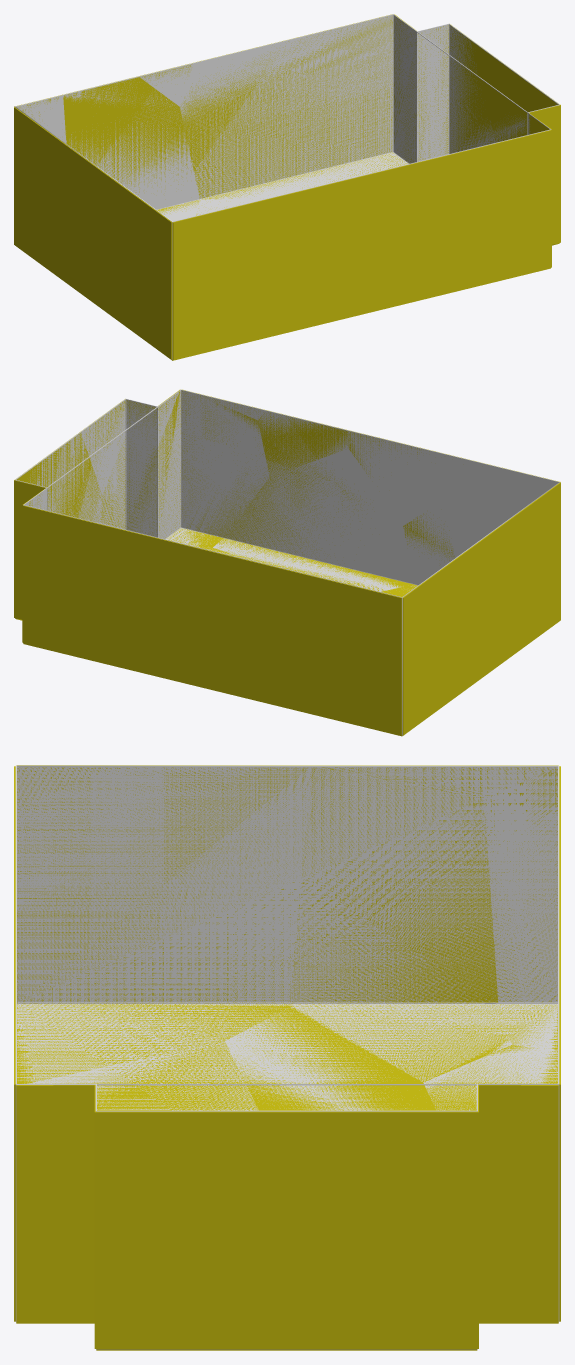
File: Room.fbx
The picture shows the model from 3 angles, top to bottom: view 1: azimuth 30°, elevation 25°; view 2: azimuth 150°, elevation 25°; view 3: azimuth 270°, elevation 25°; orthographic projection. The views are drawn at different scales.
Visible parts, largest first — view 1: Concer-Hall-Base-Mesh, Wall-2_v_002, Wall-4_v_006, Wall-4_v_002, Wall-3_v_003, Wall-4_v_003, Wall-2_v_001, Wall-3_v_001, Wall-1_v_005, Wall-4_v_004, Wall-4_v_007, Wall-4_v_001 (+6 smaller); view 2: Concer-Hall-Base-Mesh, Wall-2_v_002, Wall-2_v_001, Wall-3_v_003, Wall-3_v_001, Wall-2_v_003, Wall-1_v_005, Wall-4_v_007, Wall-4_v_002, Wall-3_v_002, Concert-hall-Lines, Wall-1_v_002 (+7 smaller); view 3: Concer-Hall-Base-Mesh, Wall-1_v_005, Wall-1_v_002, Wall-3_v_001, Wall-3_v_003, Wall-1_v_001, Wall-1_v_003, Floor_v_012, Floor_v_010, Floor_v_005, Floor_v_002, Concert-hall-Lines (+4 smaller).
Part boxes in pixels (box(x1,y1,x2,y2)): Concer-Hall-Base-Mesh: box(16, 15, 558, 221); Wall-2_v_002: box(180, 14, 393, 198); Wall-4_v_006: box(172, 198, 288, 359); Wall-4_v_002: box(318, 188, 508, 324); Wall-3_v_003: box(85, 159, 172, 359); Wall-4_v_003: box(462, 130, 551, 277); Wall-2_v_001: box(63, 76, 191, 194); Wall-3_v_001: box(31, 123, 91, 301); Wall-1_v_005: box(430, 24, 527, 154); Wall-4_v_004: box(273, 170, 384, 265); Wall-4_v_007: box(384, 150, 473, 215); Wall-4_v_001: box(272, 239, 328, 335); Concer-Hall-Base-Mesh: box(25, 391, 558, 591); Wall-2_v_002: box(23, 505, 236, 690); Wall-2_v_001: box(217, 567, 353, 721); Wall-3_v_003: box(474, 482, 560, 677); Wall-3_v_001: box(421, 545, 481, 722); Wall-2_v_003: box(344, 586, 401, 735); Wall-1_v_005: box(14, 432, 101, 619); Wall-4_v_007: box(258, 410, 348, 476); Wall-4_v_002: box(224, 461, 366, 558); Wall-3_v_002: box(402, 581, 425, 735); Concert-hall-Lines: box(15, 389, 559, 735); Wall-1_v_002: box(100, 389, 180, 537); Concer-Hall-Base-Mesh: box(17, 767, 557, 1110); Wall-1_v_005: box(177, 1096, 478, 1348); Wall-1_v_002: box(16, 1085, 192, 1348); Wall-3_v_001: box(290, 765, 498, 1002); Wall-3_v_003: box(16, 765, 311, 1002); Wall-1_v_001: box(478, 1085, 558, 1322); Wall-1_v_003: box(22, 1085, 251, 1247); Floor_v_012: box(17, 1003, 288, 1083); Floor_v_010: box(228, 1007, 435, 1110); Floor_v_005: box(289, 1003, 509, 1082); Floor_v_002: box(30, 1041, 258, 1110); Concert-hall-Lines: box(15, 765, 559, 1349).
Bounding box in the file's own units: 354 × 114 × 236.
